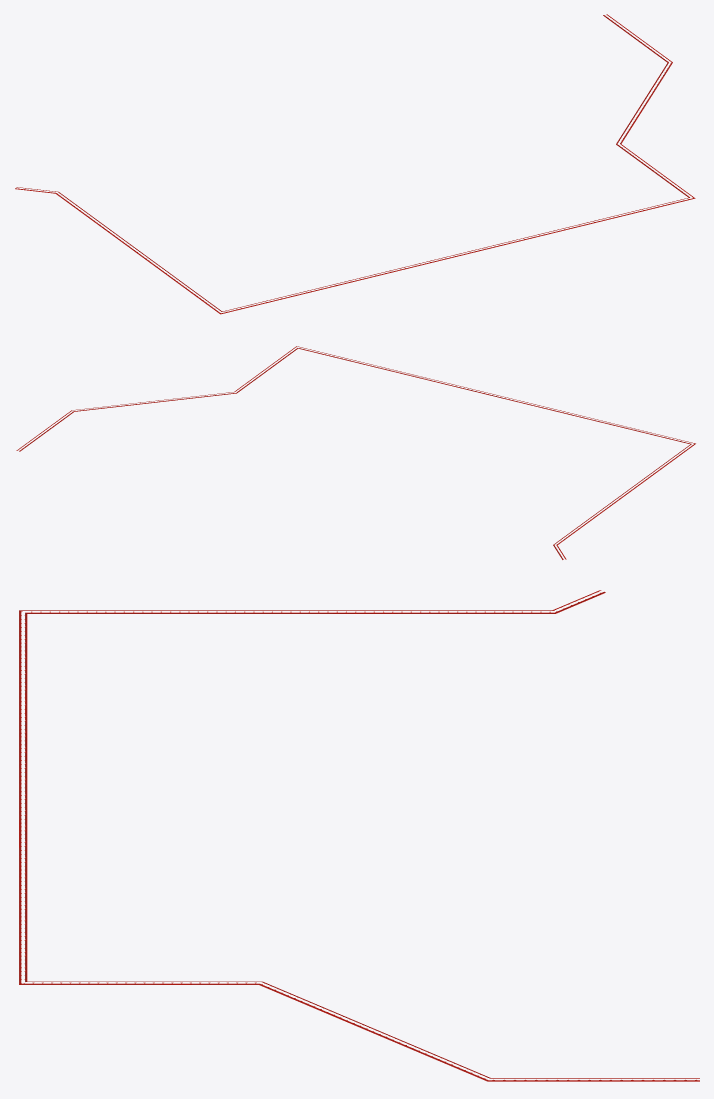
The model's file is UnlockPipe_1.fbx.
3 views of the same model, one above another, from view 1: azimuth 30°, elevation 25°; view 2: azimuth 150°, elevation 25°; view 3: azimuth 270°, elevation 25° (orthographic). The views are drawn at different scales.
Parts seen in each view (by area): view 1: nurbsToPoly1; view 2: nurbsToPoly1; view 3: nurbsToPoly1.
Part boxes in pixels (<box>): nurbsToPoly1: <box>15,14,695,314</box>; nurbsToPoly1: <box>16,346,695,559</box>; nurbsToPoly1: <box>19,590,699,1081</box>.
Size of the model in its own units: 64.03 by 0.0919 by 37.5.
